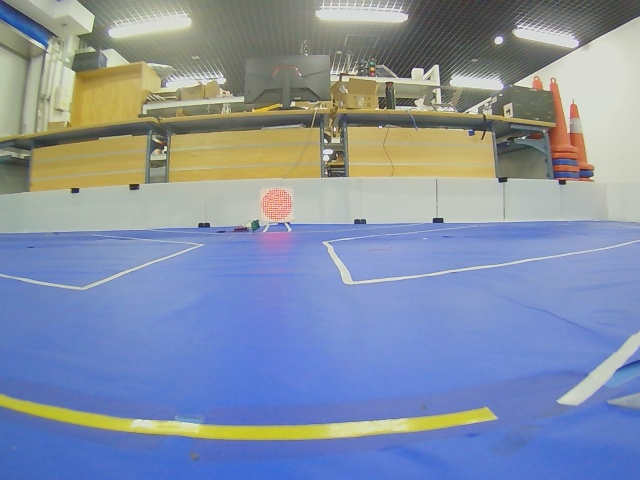red: (260, 188, 293, 223)
